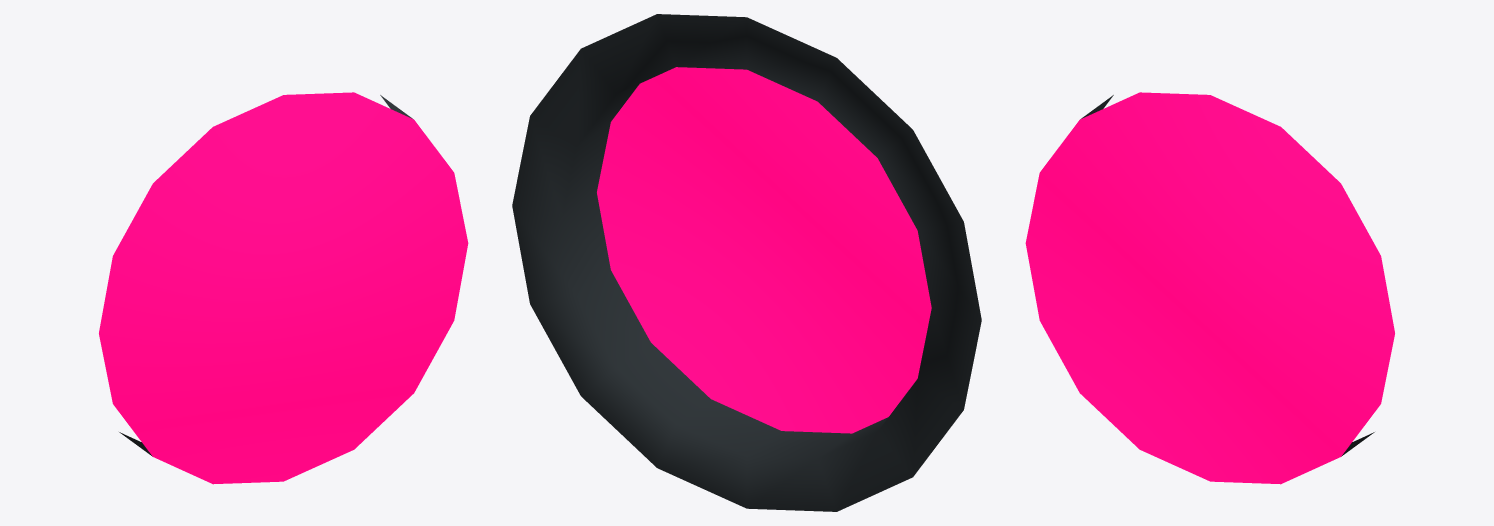
The model's file is engine.fbx.
3 views of the same model, side by side, from view 1: azimuth 30°, elevation 25°; view 2: azimuth 150°, elevation 25°; view 3: azimuth 330°, elevation 25° (orthographic).
Visible parts, largest first — view 1: engine; view 2: engine; view 3: engine.
Boxes of the visible parts, x1=… form: engine: x1=99, y1=92, x2=468, y2=484; engine: x1=512, y1=14, x2=981, y2=511; engine: x1=1025, y1=92, x2=1394, y2=484.
Bounding box in the file's own units: 1.23 × 1.23 × 0.1564.
